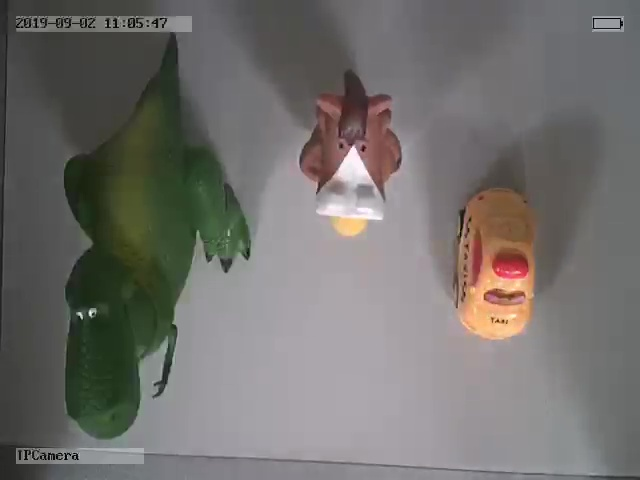car: (454, 186, 537, 345)
horse: (296, 70, 403, 235)
rex: (61, 48, 249, 440)
